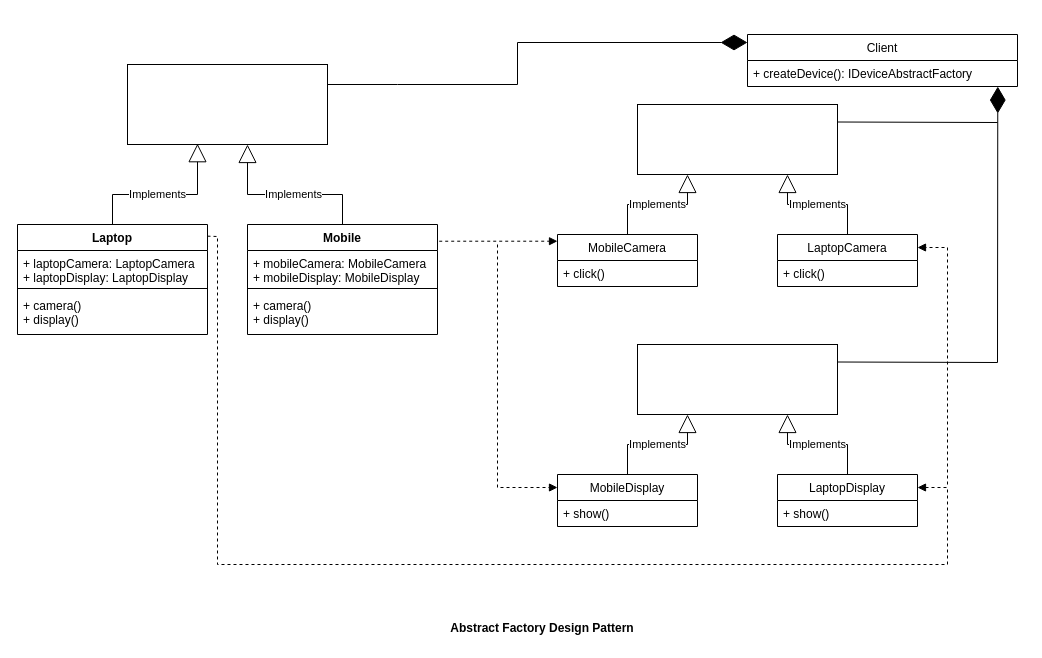
The diagram is 1042 pixels wide and 658 high, and some of its shapes have lost their labels. Here are the shapes that lost their labels. From the top down, the centre of each, then its label:
At (227,104): "<<Interface>> IDeviceAbstractFactory + camera() + display()".
At (737,139): "<<Interface>> ICameraProduct + click()".
At (737,379): "<<Interface>> IDisplayProduct + show()".
